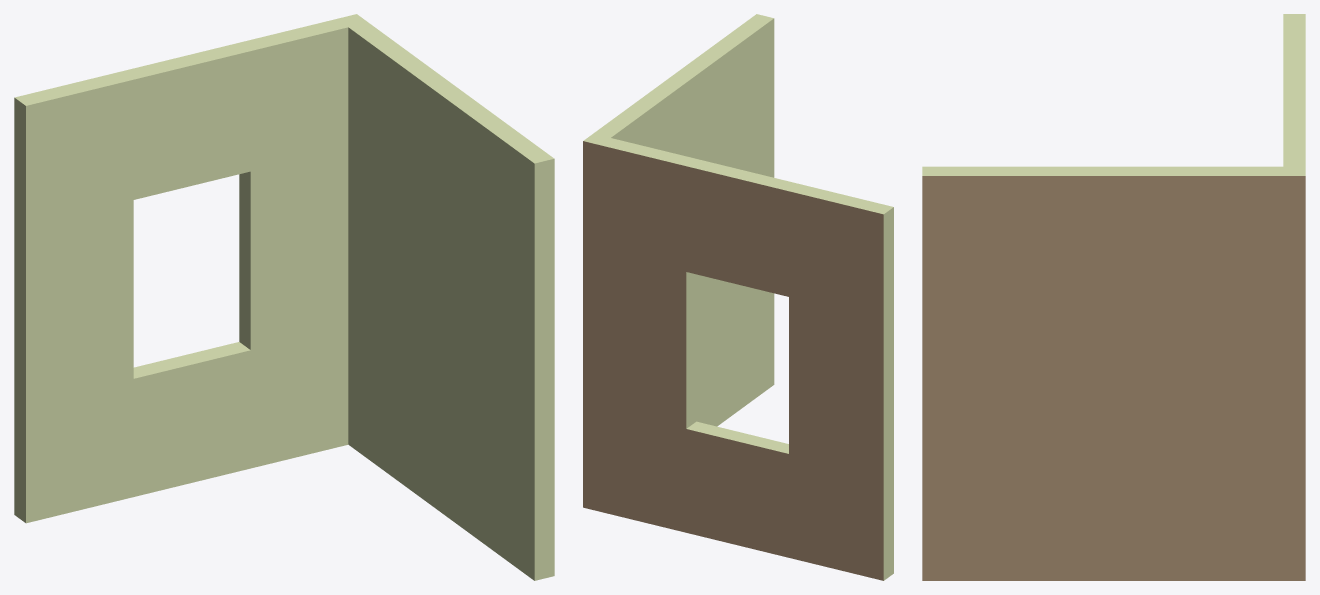
The model's file is Wall2_C5_07.fbx.
3 renders of one model, left to right at view 1: azimuth 30°, elevation 25°; view 2: azimuth 150°, elevation 25°; view 3: azimuth 270°, elevation 25°, orthographic. The views are drawn at different scales.
Visible parts, largest first — view 1: Wall2_C5_07; view 2: Wall2_C5_07; view 3: Wall2_C5_07.
Boxes of the visible parts, box(x1,y1,x2,y2) form: Wall2_C5_07: box(14, 14, 554, 580); Wall2_C5_07: box(583, 14, 893, 580); Wall2_C5_07: box(922, 14, 1305, 580).
Size of the model in its own units: 258 by 300 by 258.
